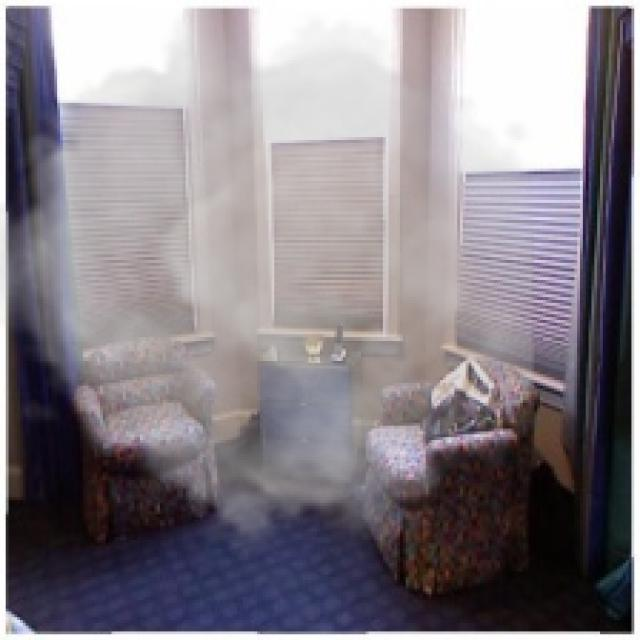smoke: (0, 5, 535, 561)
